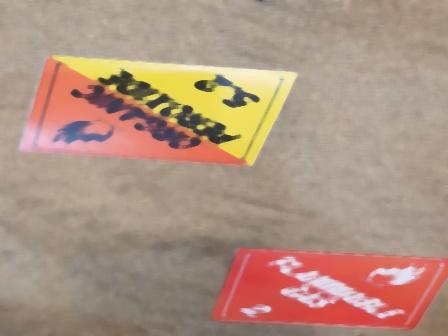flammable: (209, 243, 444, 331)
organic-peroxide: (12, 52, 304, 165)
